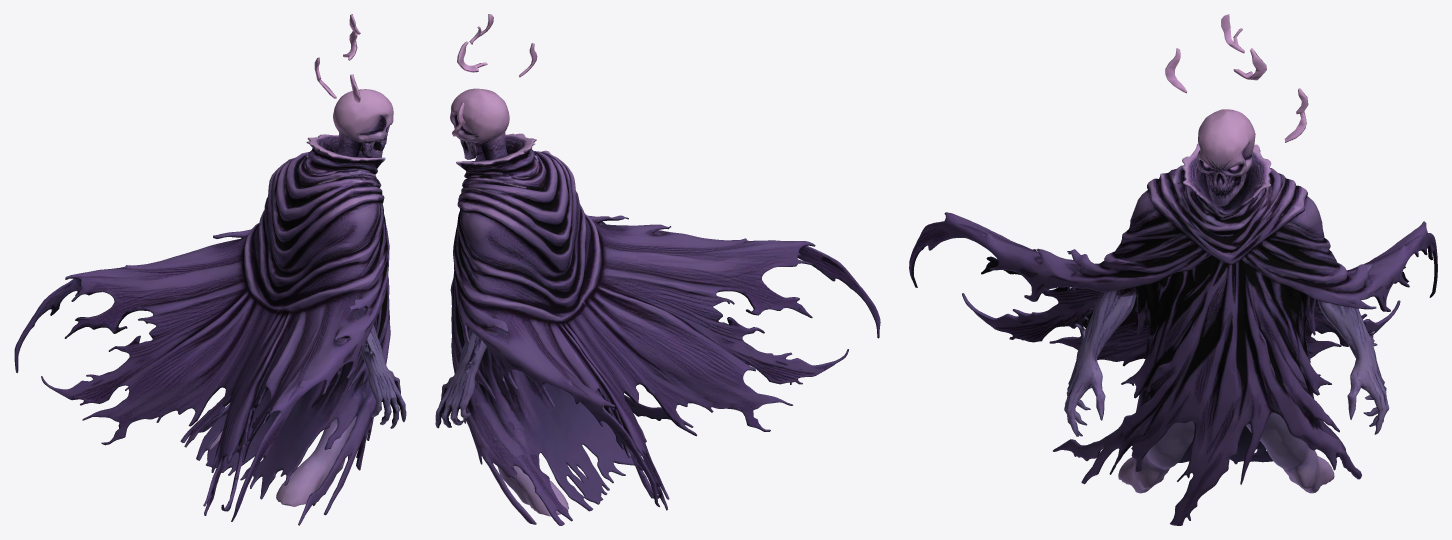
The model's file is phantasm.glb.
The picture shows the model from 3 angles, left to right: view 1: azimuth 30°, elevation 25°; view 2: azimuth 150°, elevation 25°; view 3: azimuth 270°, elevation 25°; orthographic projection. The views are drawn at different scales.
Parts seen in each view (by area): view 1: tripo_node_fb464035-a9ca-4182-96d9-1ec73c94dfa6; view 2: tripo_node_fb464035-a9ca-4182-96d9-1ec73c94dfa6; view 3: tripo_node_fb464035-a9ca-4182-96d9-1ec73c94dfa6.
Part boxes in pixels (bbox=[...]): tripo_node_fb464035-a9ca-4182-96d9-1ec73c94dfa6: bbox=[14, 14, 406, 525]; tripo_node_fb464035-a9ca-4182-96d9-1ec73c94dfa6: bbox=[435, 14, 880, 525]; tripo_node_fb464035-a9ca-4182-96d9-1ec73c94dfa6: bbox=[909, 14, 1437, 525].
Bounding box in the file's own units: 0.6927 × 1 × 0.9216.
Materials: 1 (1 with a texture image).
